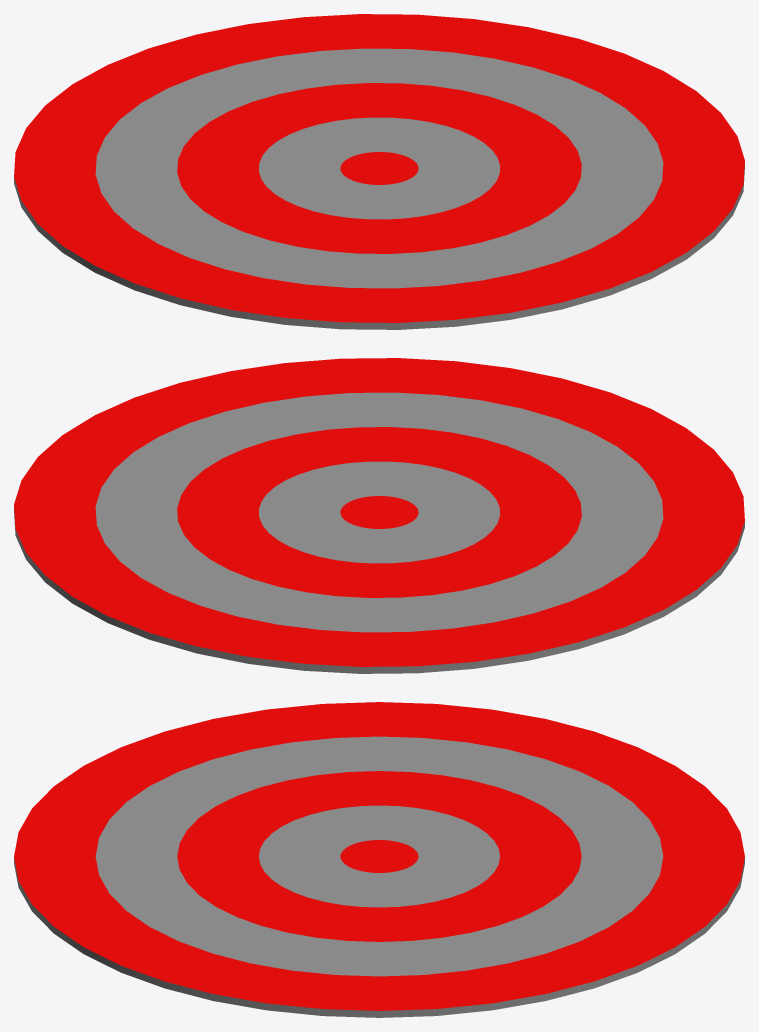
Rendered from Target.fbx.
3 views of the same model, one above another, from view 1: azimuth 30°, elevation 25°; view 2: azimuth 150°, elevation 25°; view 3: azimuth 270°, elevation 25° (orthographic).
Parts seen in each view (by area): view 1: Cylinder001; view 2: Cylinder001; view 3: Cylinder001.
Part boxes in pixels (box(x1,y1,x2,y2)): Cylinder001: box(14, 14, 744, 329); Cylinder001: box(14, 358, 744, 673); Cylinder001: box(14, 702, 744, 1017).
Size of the model in its own units: 226 by 2.39 by 226.
